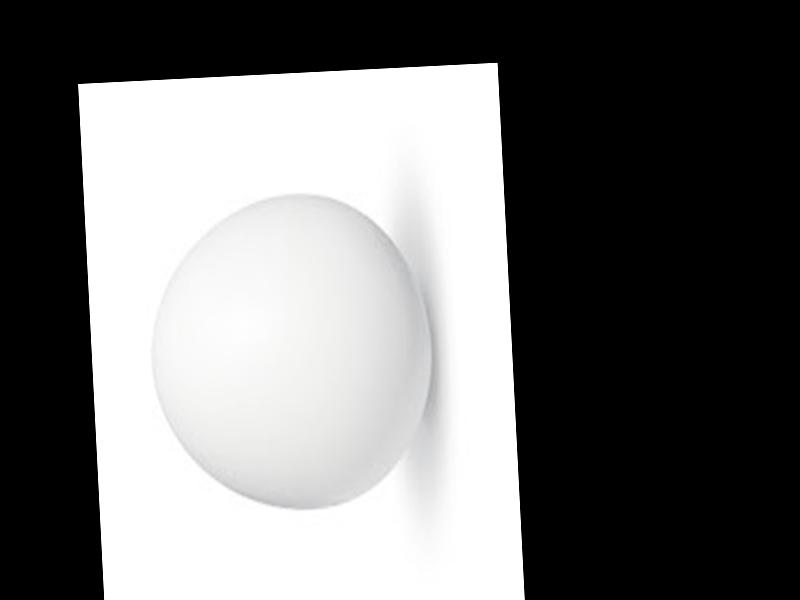Eggs: (141, 189, 437, 511)
